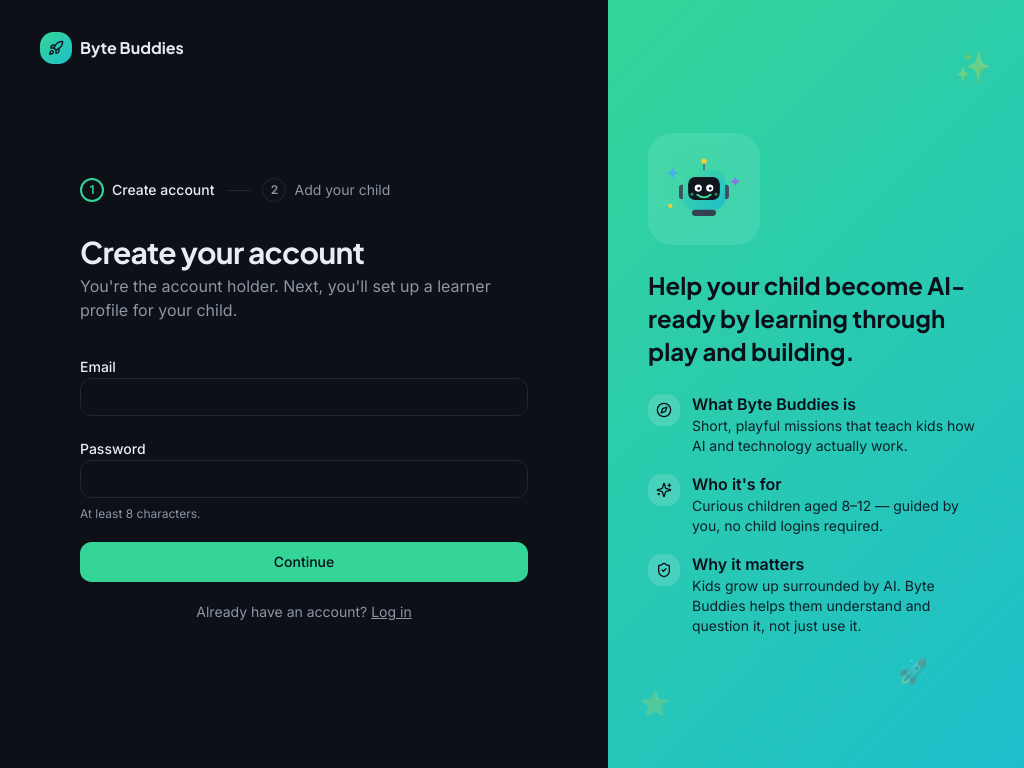
SignupPage › surfaces an auth error from the server
In the field labelled "Email": (304, 397) [80,378,528,416], type "parent@example.com"
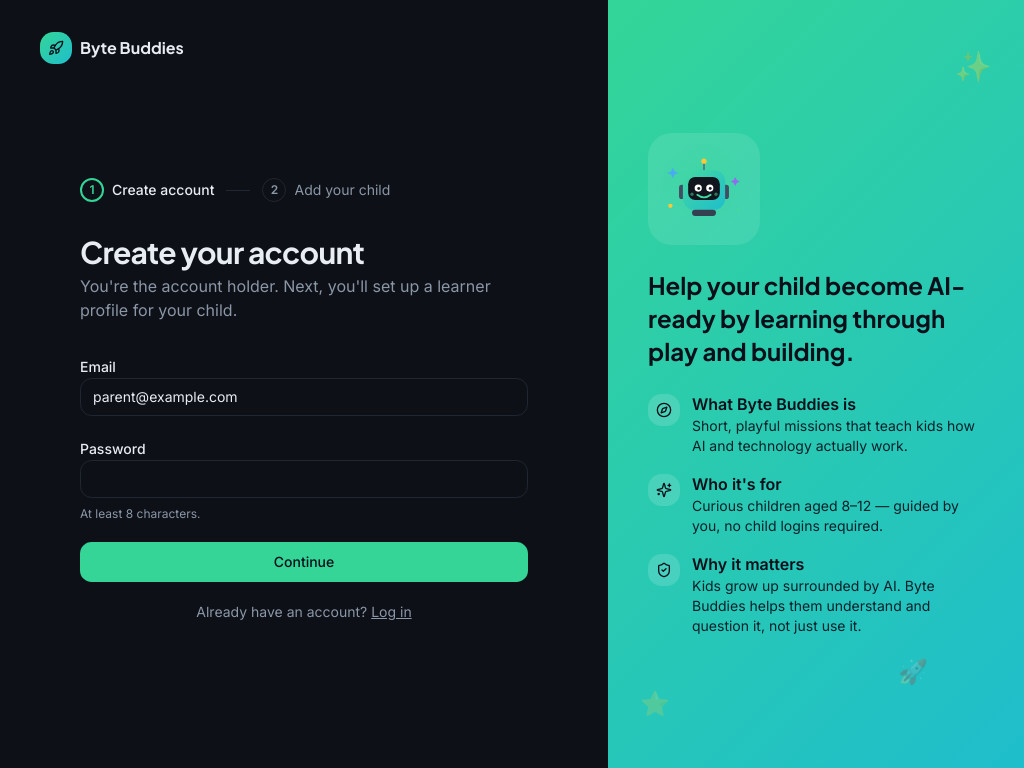
In the password field labelled "Password": (304, 479) [80,460,528,498], type "supersecret"
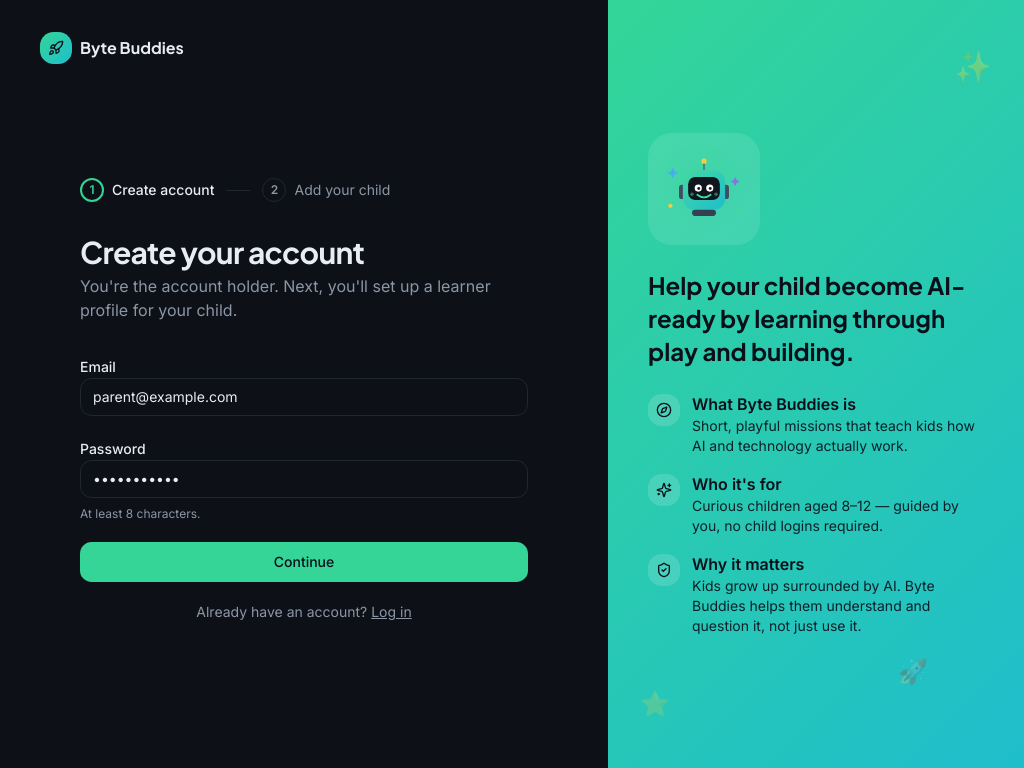
Click the button "Continue": click(304, 562) [80,542,528,582]
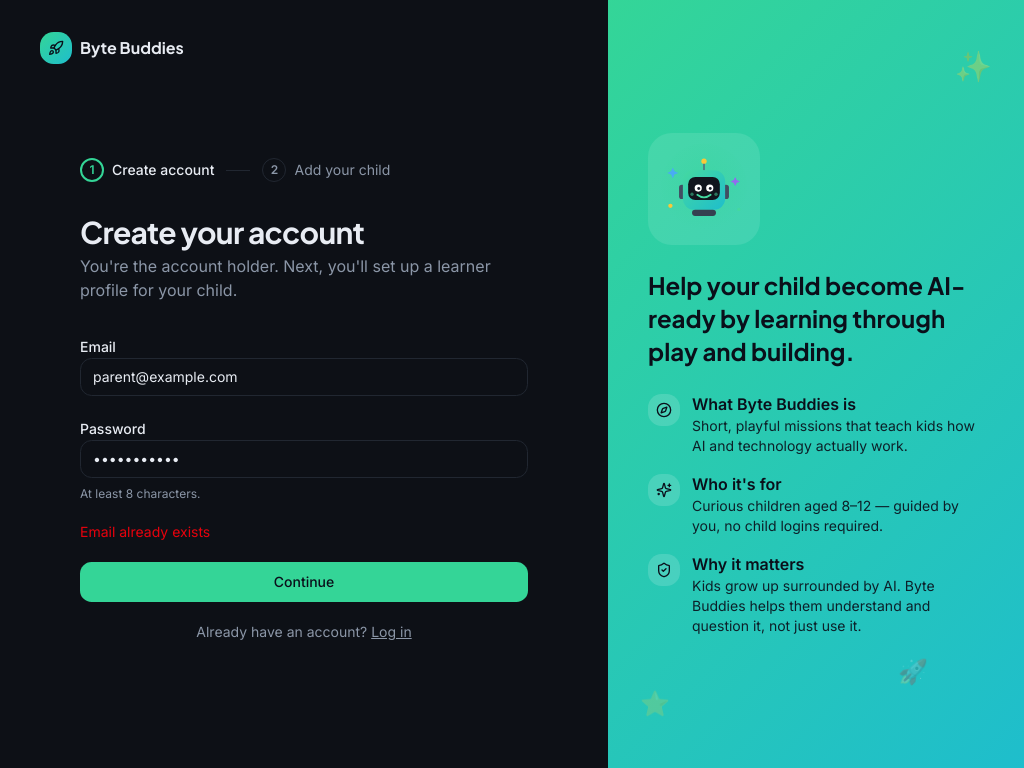
Expected: the text "Email already exists" is shown, [80,523,210,540]
